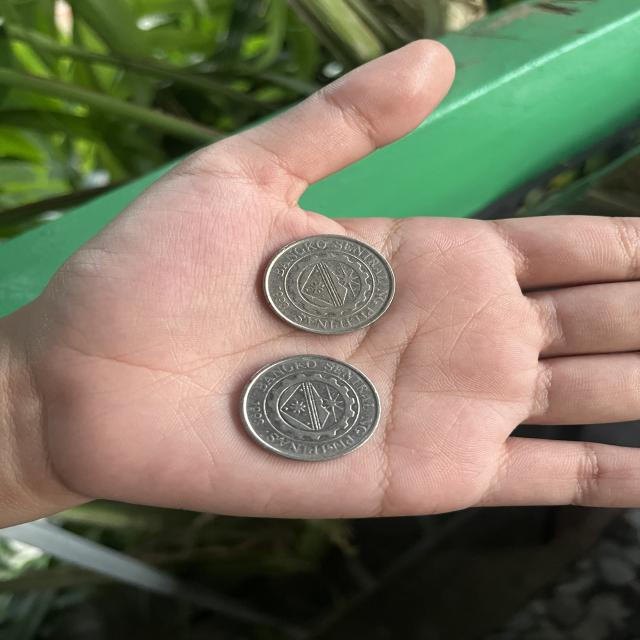1_Old_Back: (270, 230, 397, 326), (250, 363, 369, 447)
